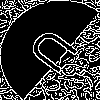U: (25, 25, 89, 82)
